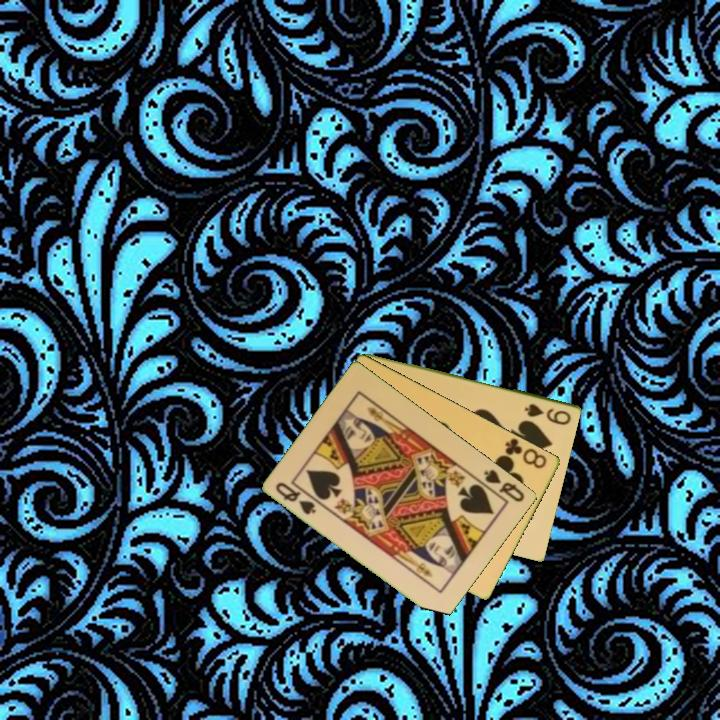8c: (500, 435, 550, 471)
9s: (521, 400, 574, 428)
Qs: (480, 466, 528, 505), (272, 478, 319, 517)
